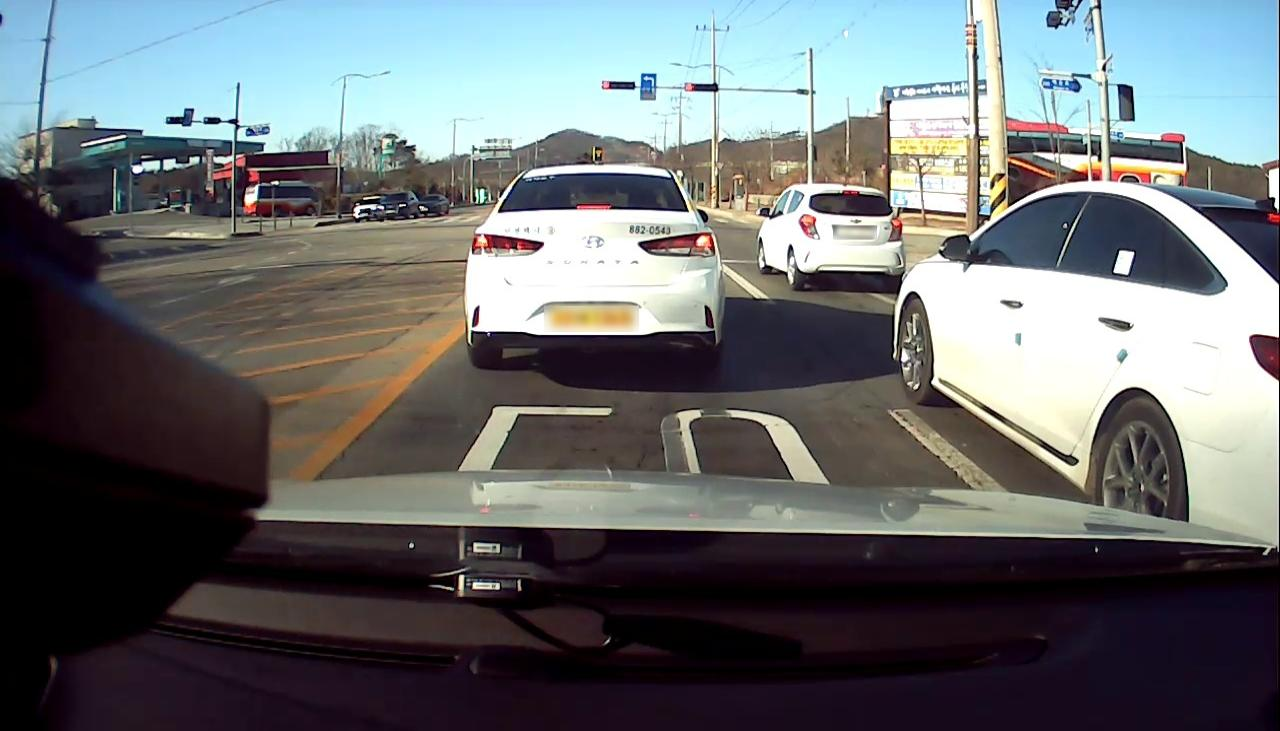Red Light: (685, 81, 695, 92), (601, 80, 611, 90)
